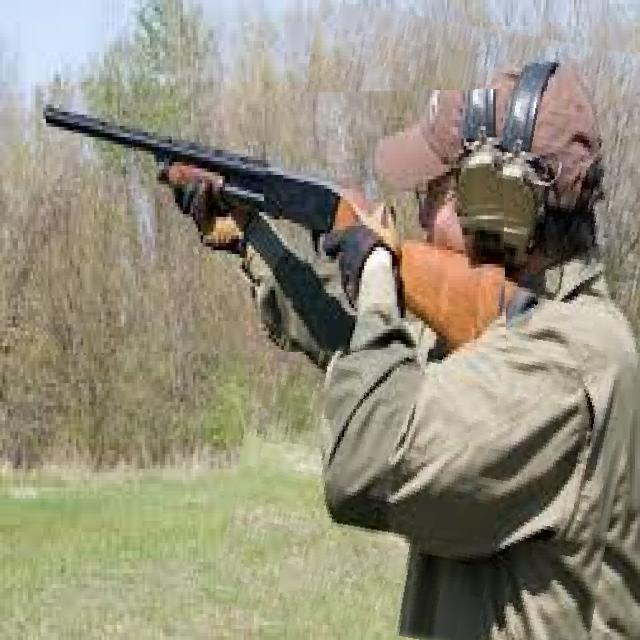Gun_Holder: (34, 84, 489, 399)
Jacket_Wearer: (354, 218, 640, 640)
Person: (336, 56, 640, 640)
